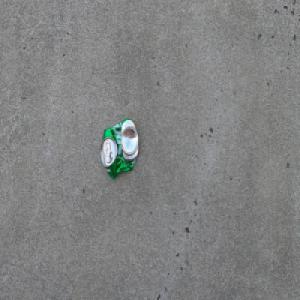SodaCan: (100, 116, 139, 179)
